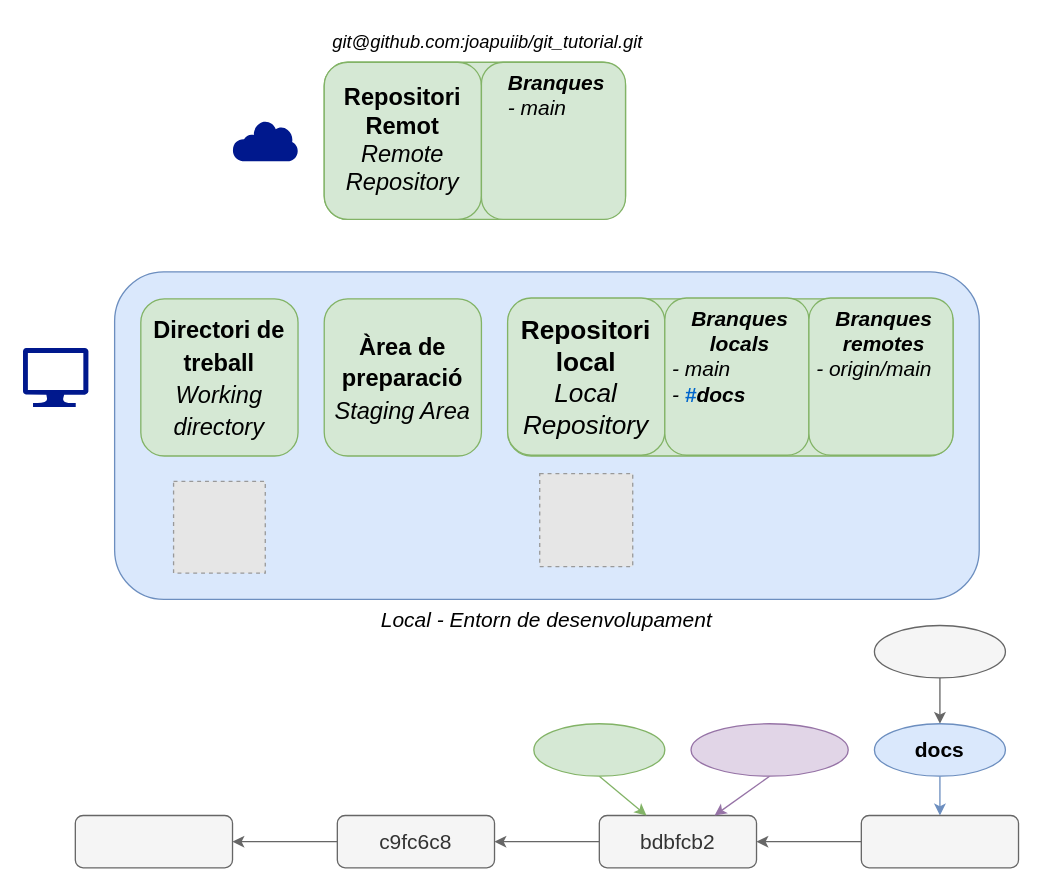
Some shapes in this 1041 by 891 pixel diagram are drawn without their labels. Grey dashed boxes stand in for pictures. Here are the shapes that lost their labels. From the top down, the centre of each, then its label:
At point (939, 651): "HEAD".
At point (599, 749): "main".
At point (769, 749): "origin/main".
At point (153, 841): "8e70293".
At point (939, 841): "ced9cee".
